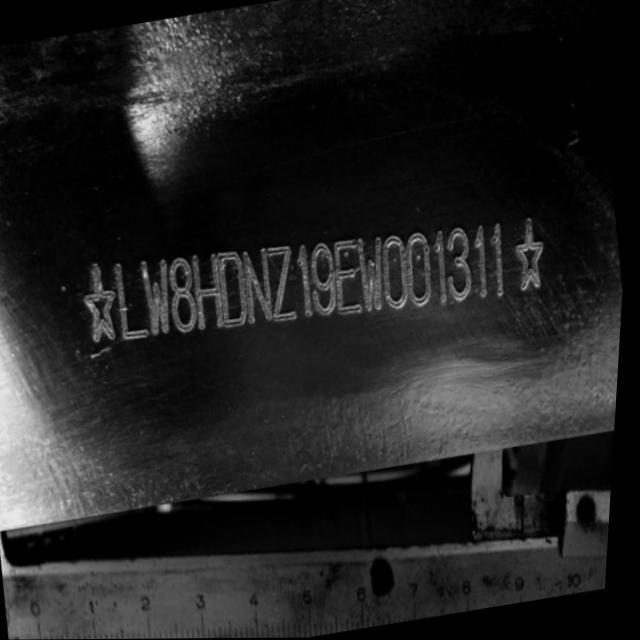ocr: (67, 191, 578, 375)
